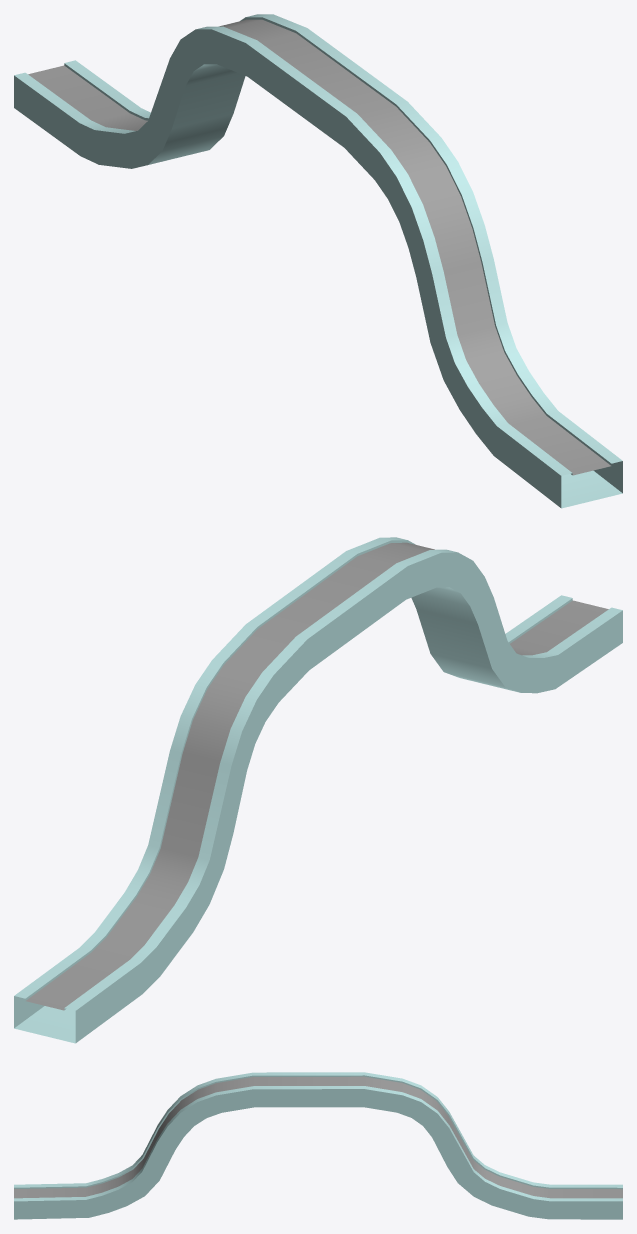
File: updown.fbx
The picture shows the model from 3 angles, top to bottom: view 1: azimuth 30°, elevation 25°; view 2: azimuth 150°, elevation 25°; view 3: azimuth 270°, elevation 25°; orthographic projection. The views are drawn at different scales.
Visible parts, largest first — view 1: updown; view 2: updown; view 3: updown.
Part boxes in pixels (bbox=[...]): updown: bbox=[14, 14, 622, 508]; updown: bbox=[14, 537, 622, 1043]; updown: bbox=[14, 1072, 622, 1219].
Size of the model in its own units: 203 by 739 by 3128.
